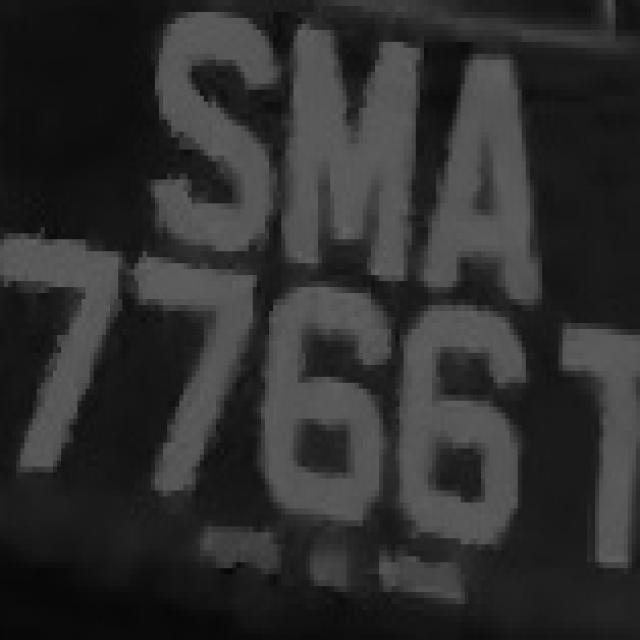6: (400, 275, 534, 568), (269, 257, 391, 544)
7: (122, 233, 265, 514), (8, 210, 122, 490)
A: (428, 42, 554, 293)
M: (289, 30, 416, 305)
S: (130, 6, 286, 263)
T: (550, 305, 640, 604)
